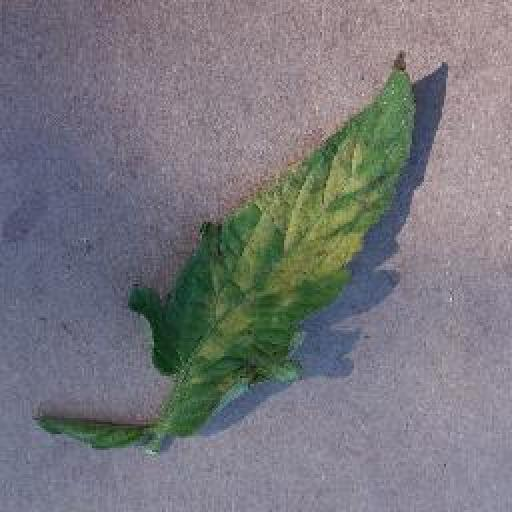disease_tomato: (127, 46, 419, 438)
